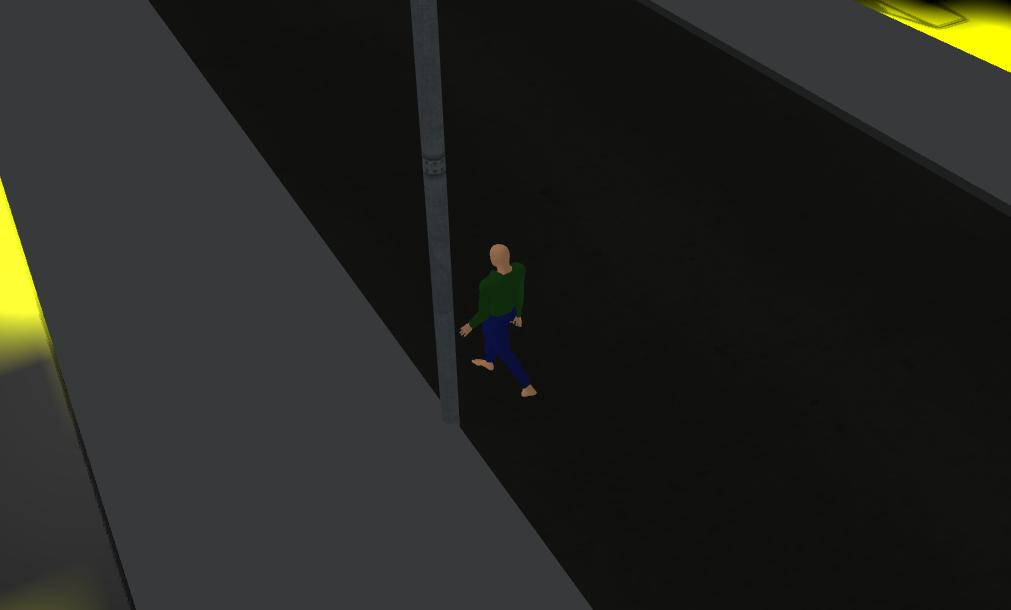human: (464, 236, 548, 402)
street light: (399, 9, 470, 433)
